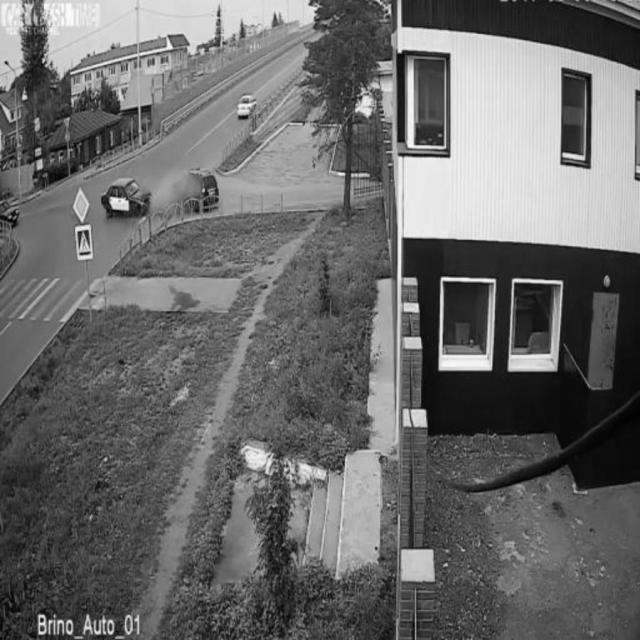vehicle: (169, 168, 223, 210), (99, 177, 154, 217), (0, 199, 20, 226), (236, 88, 254, 116)
